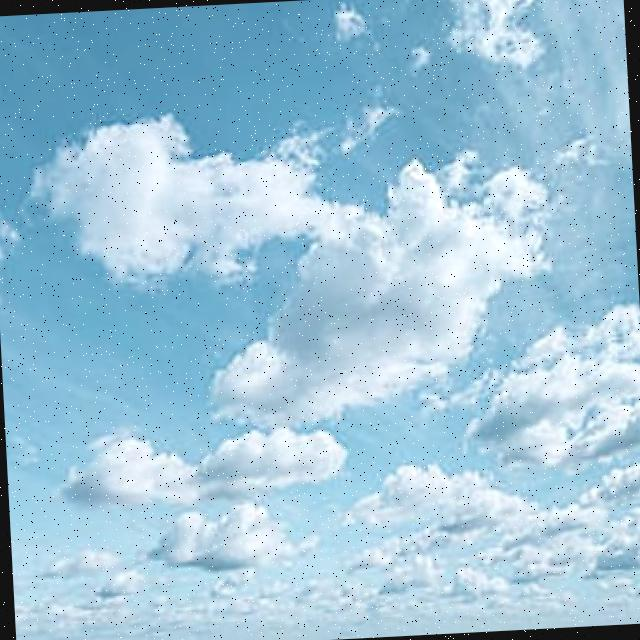Ci: (1, 6, 640, 575)
